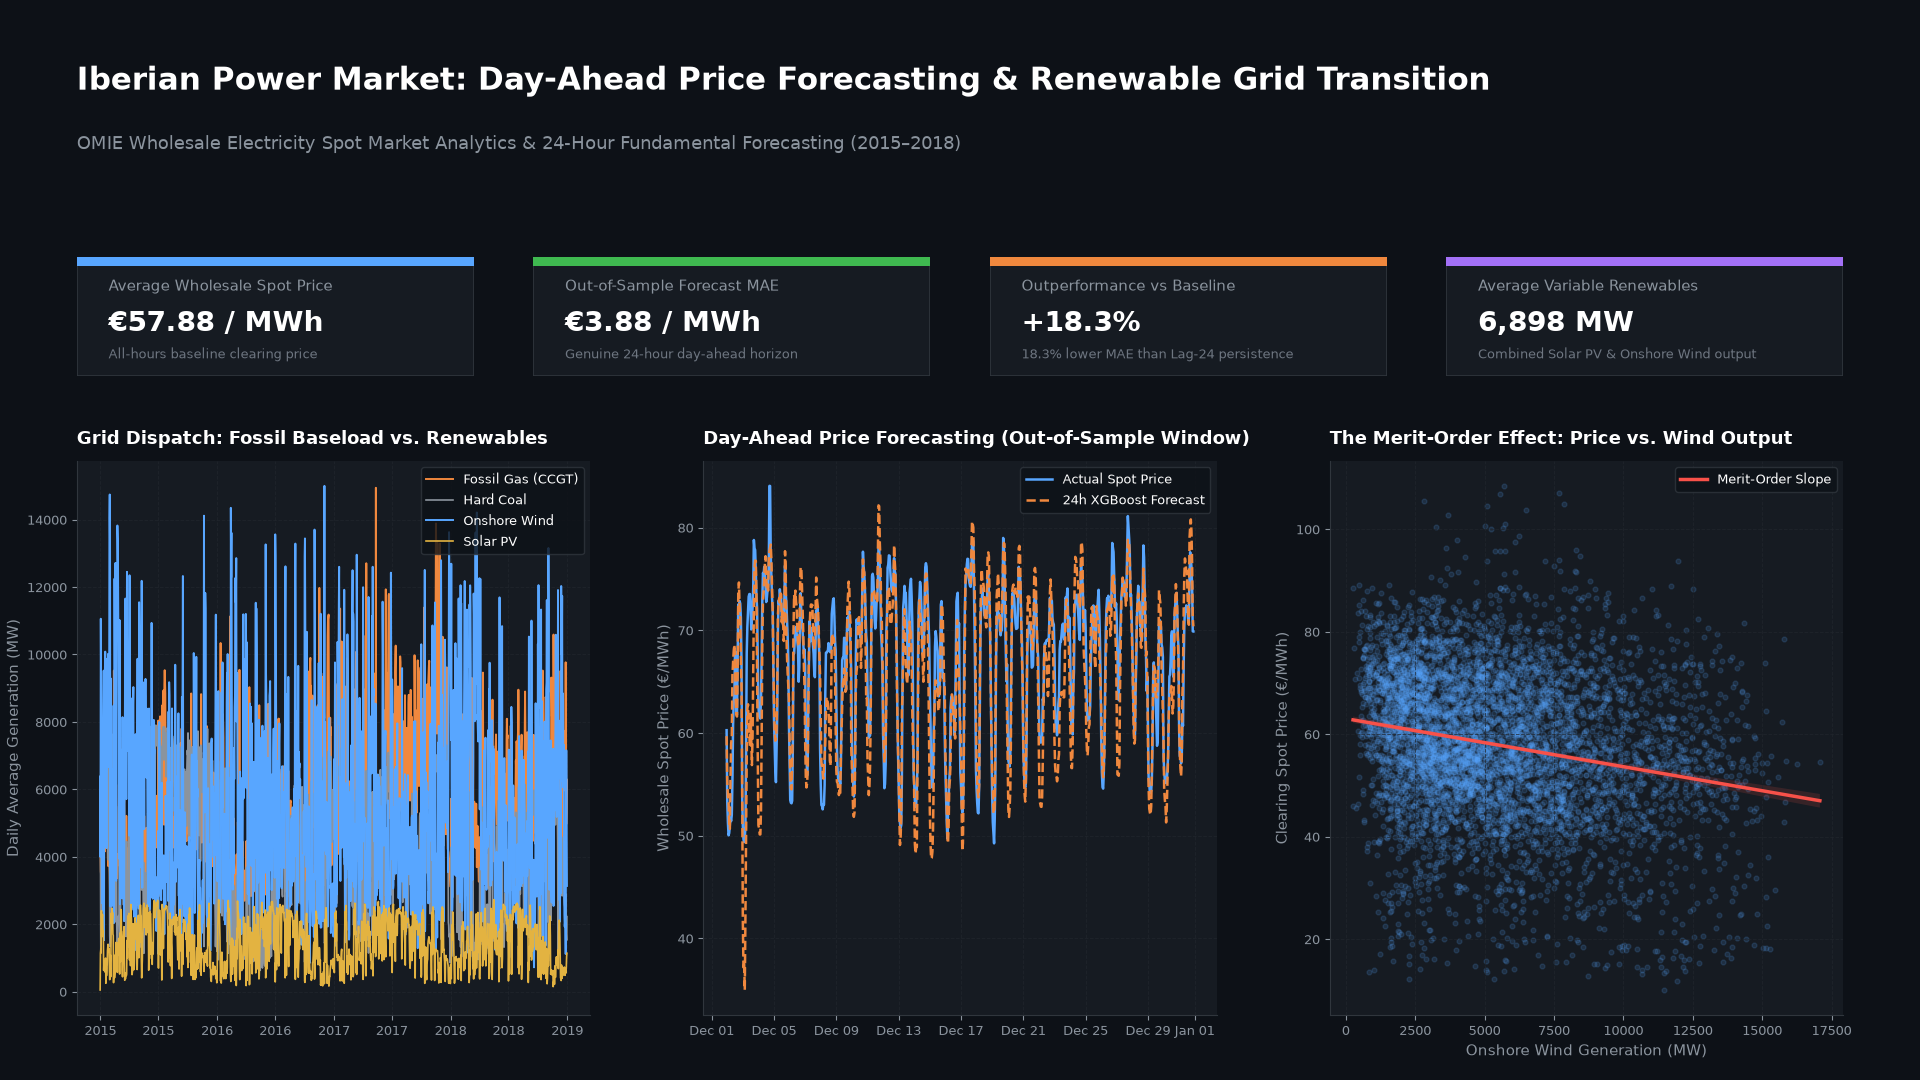

Layout of this report page (visuals, bound fields, positions):
{"tool":"powerbi","page":{"name":"Executive Overview","canvas":[1280,720],"ordinal":0},"visuals":[{"type":"stackedAreaChart","title":"Grid Dispatch: Fossil Baseload vs. Renewables (MW)","fields":{"Category":["Sheet1.time"],"Y":["Sum(Sheet1.generation wind onshore)","Sum(Sheet1.generation fossil gas)","Sum(Sheet1.generation fossil hard coal)","Sum(Sheet1.generation solar)"]},"box":[38.7,189.1,357.7,337.2],"z":0},{"type":"lineChart","title":"Day-Ahead Price Forecasting: Model vs. Actuals (€/MWh)","fields":{"Category":["Sheet1.time"],"Y":["Sum(Sheet1.price actual)","Sum(Sheet1.predicted_price)"]},"box":[437.4,189.1,371.4,337.2],"z":1000},{"type":"scatterChart","title":"The Merit-Order Effect: Spot Price vs. Wind Output","fields":{"X":["Sum(Sheet1.generation wind onshore)"],"Y":["Sum(Sheet1.price actual)"],"Category":["Sheet1.time"]},"box":[836.2,189.1,407.8,337.2],"z":2000},{"type":"textbox","box":[20.5,68.4,1244,102.5],"z":3000}]}

Visuals, with their boxes in screenshot pixels (x1, y1, x2, y2), scaled from the page's 1280x720 canvas onto the 1920x1080 screenshot:
"Grid Dispatch: Fossil Baseload vs. Renewables (MW)" stackedAreaChart: region(58, 284, 595, 789)
"Day-Ahead Price Forecasting: Model vs. Actuals (€/MWh)" lineChart: region(656, 284, 1213, 789)
"The Merit-Order Effect: Spot Price vs. Wind Output" scatterChart: region(1254, 284, 1866, 789)
textbox: region(31, 103, 1897, 256)
